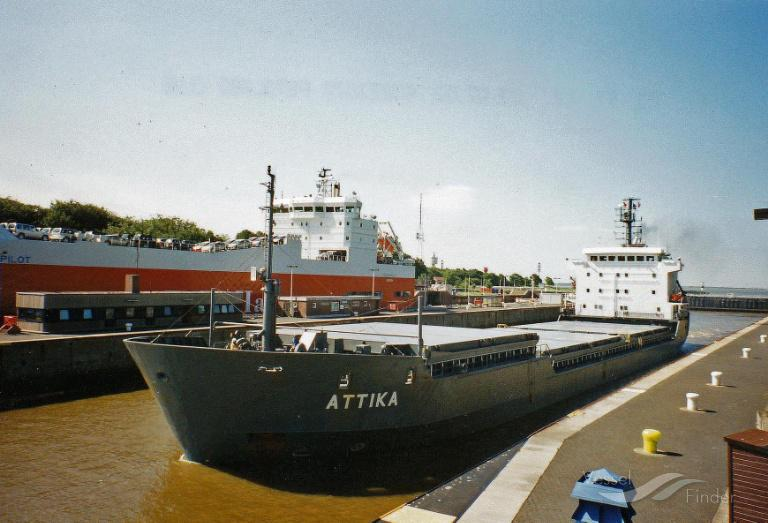OCR: (324, 388, 406, 416)
